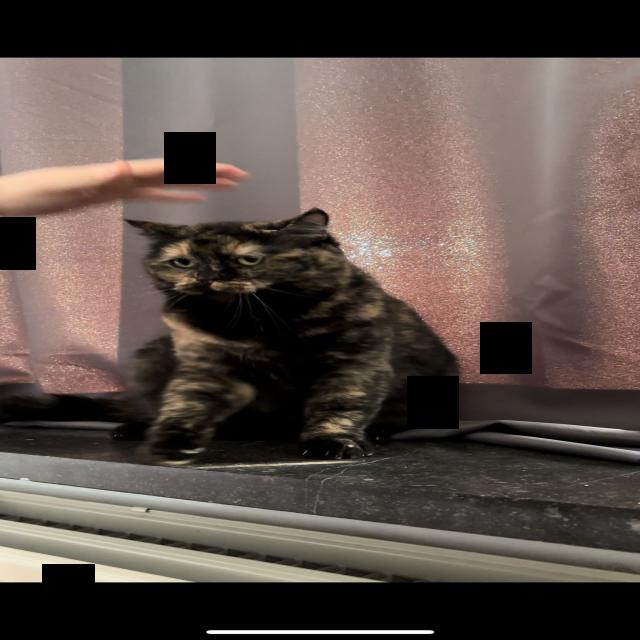authorized: (2, 206, 461, 465)
